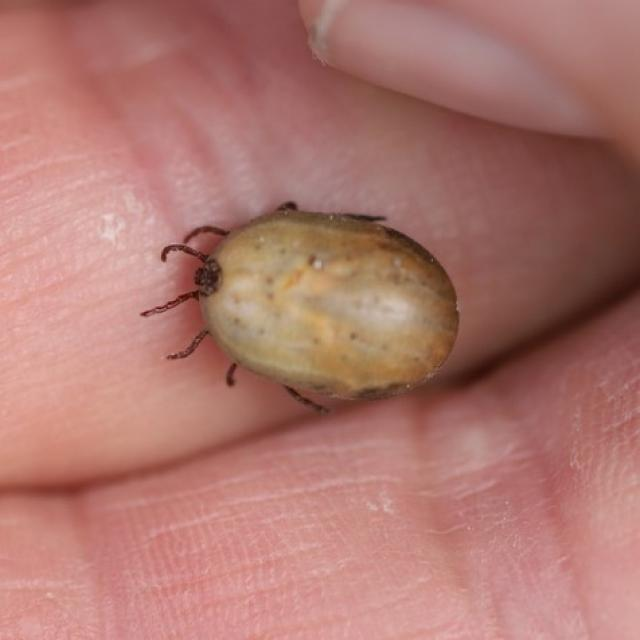Dermacentor Reticulatus-F-Fed: (143, 203, 460, 413)
